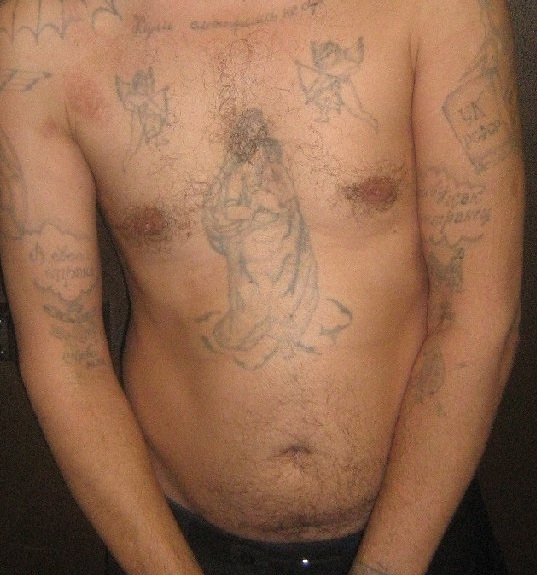tatu1_angel: (282, 30, 389, 145), (106, 62, 186, 167)
tatu2_bogorodica: (189, 109, 345, 361)
